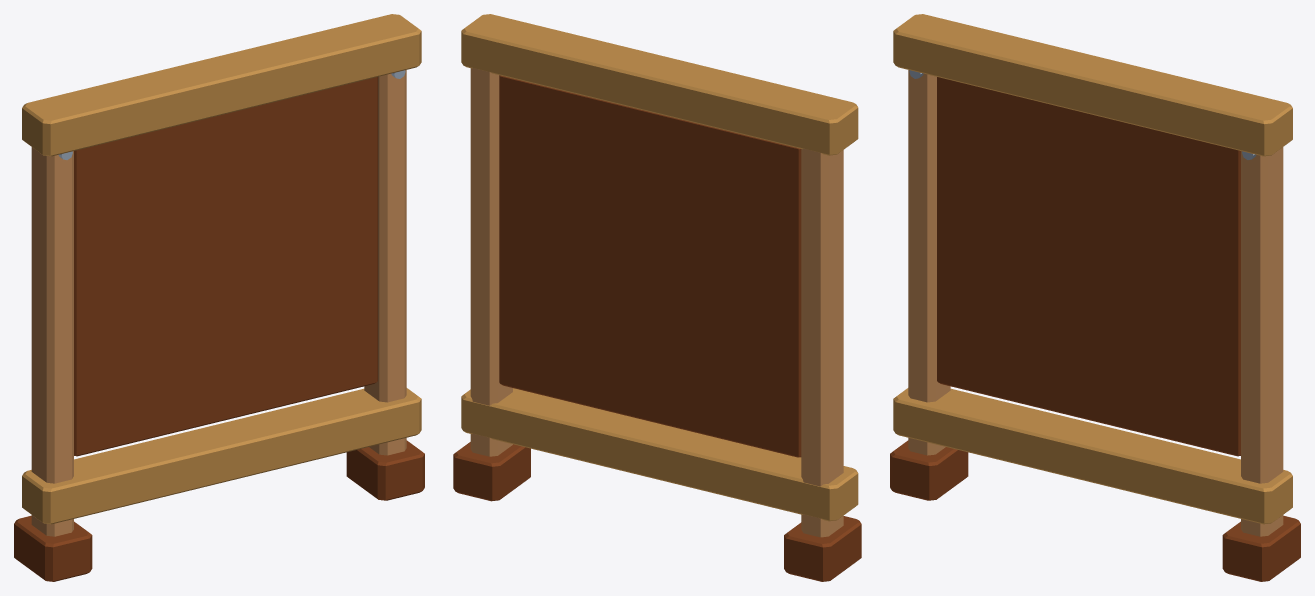
File: LaunchStand.glb
3 views of the same model, side by side, from view 1: azimuth 30°, elevation 25°; view 2: azimuth 150°, elevation 25°; view 3: azimuth 330°, elevation 25° (orthographic).
Visible parts, largest first — view 1: LaunchStand; view 2: LaunchStand; view 3: LaunchStand.
Part boxes in pixels (box(x1,y1,x2,y2)): LaunchStand: box(14, 14, 424, 581); LaunchStand: box(453, 14, 861, 581); LaunchStand: box(890, 14, 1300, 581).
Size of the model in its own units: 1.87 by 2.16 by 0.3136.
1 material, 1 textured.
